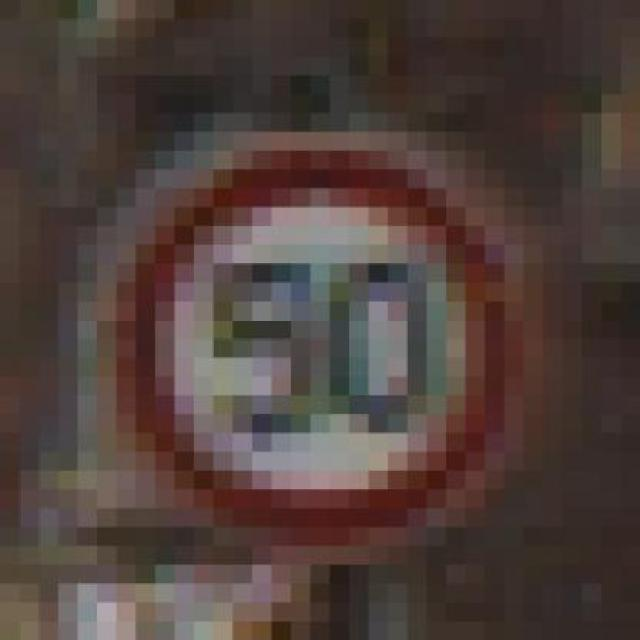50 mph speed limit: (77, 94, 543, 546)
